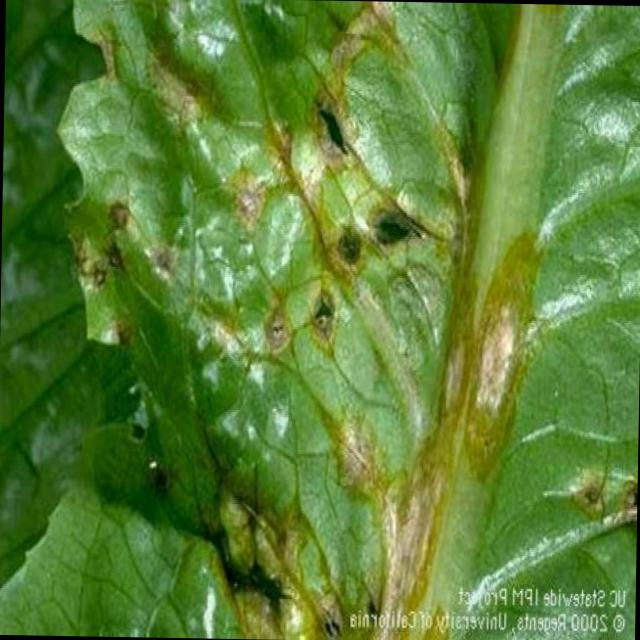Healthy: (210, 43, 442, 403)
